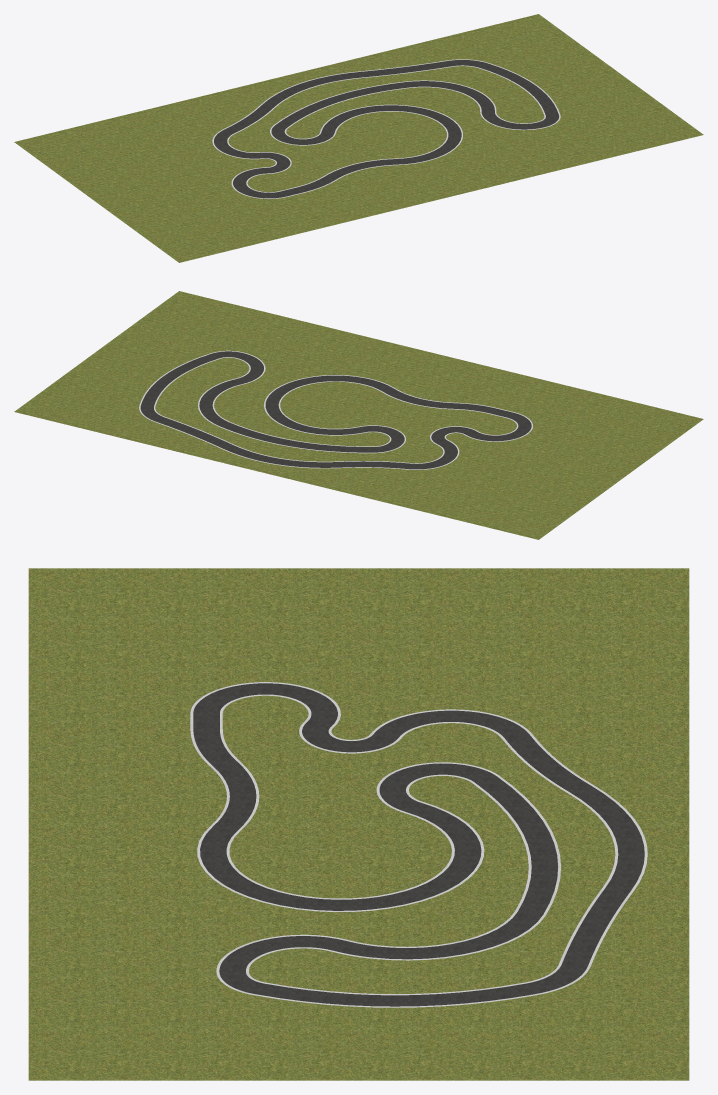
Rendered from track19.dae.
The picture shows the model from 3 angles, top to bottom: view 1: azimuth 30°, elevation 25°; view 2: azimuth 150°, elevation 25°; view 3: azimuth 270°, elevation 25°; orthographic projection. The views are drawn at different scales.
Parts seen in each view (by area): view 1: field, road, outerline, innerline; view 2: field, road, outerline, innerline; view 3: field, road, outerline, innerline.
Part boxes in pixels (x1,y1,x2,y2): field: (14,14,703,262); road: (214,60,559,198); outerline: (212,59,560,198); innerline: (227,65,545,192); field: (14,291,703,539); road: (140,351,531,469); outerline: (139,350,532,469); innerline: (154,357,518,463); field: (28,568,689,1080); road: (193,683,644,1006); outerline: (190,682,647,1007); innerline: (220,694,618,995).
Size of the model in its own units: 74.83 by 40.8 by 0.01.
Materials: 3 (3 with a texture image).
